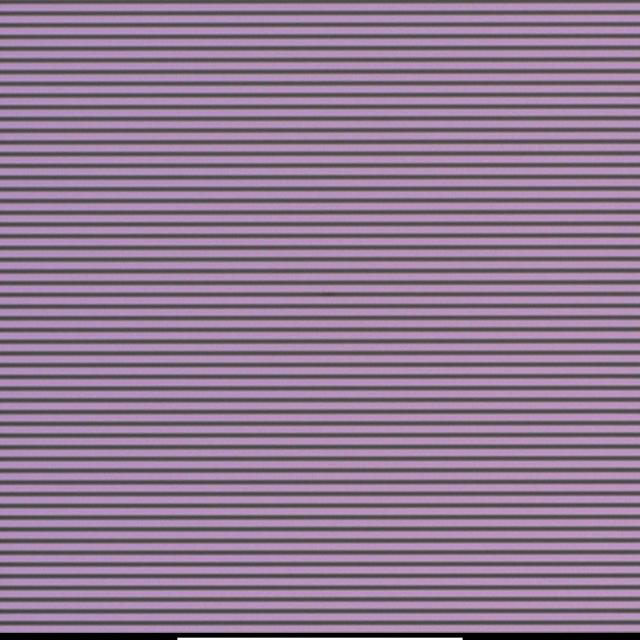03_intrusion: (322, 287, 332, 302)
